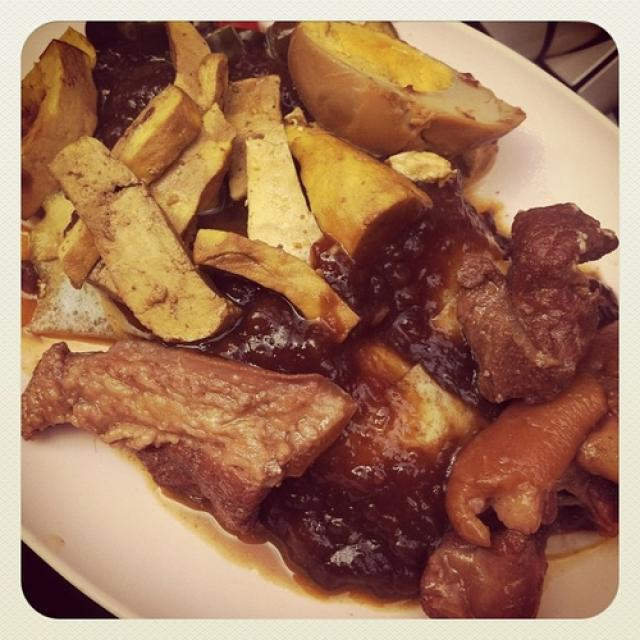猪肉菜式: (23, 15, 620, 621)
